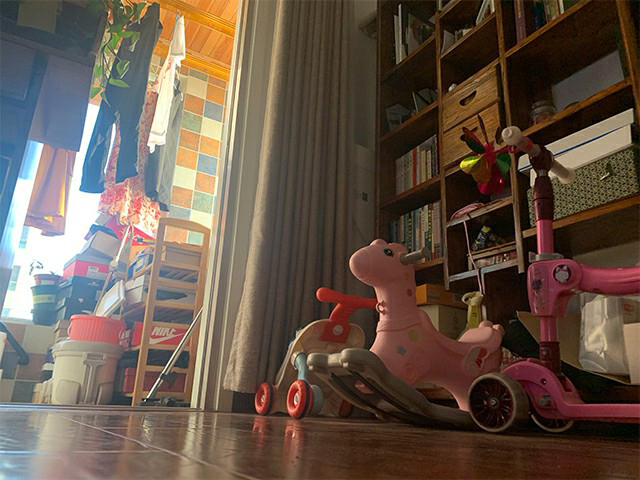curtain: (222, 1, 357, 393)
